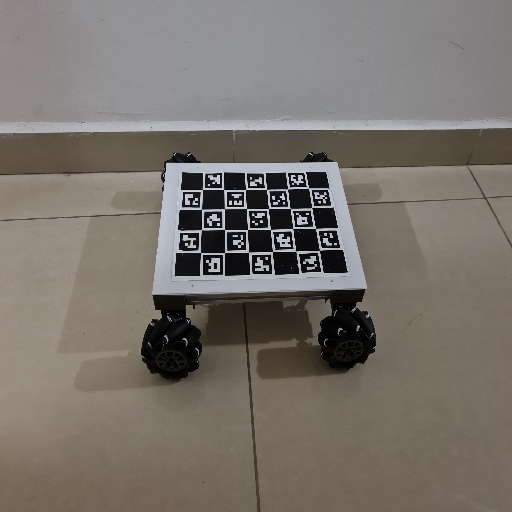Omniwheel: (140, 153, 378, 383)
